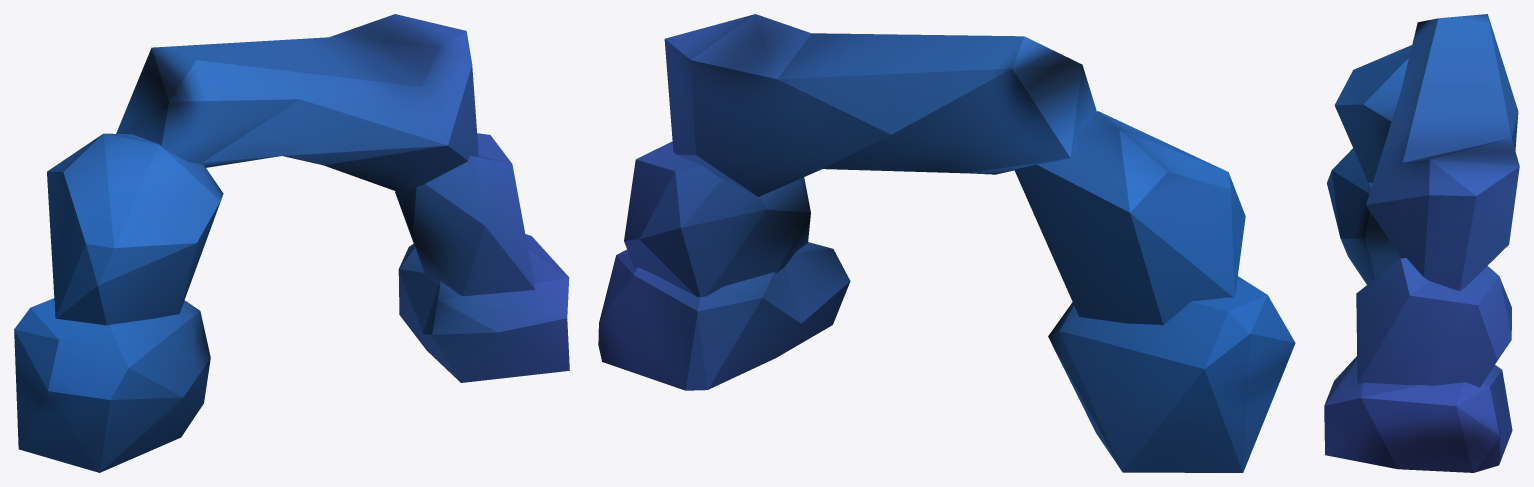
Rendered from Terrain_Rock_4.fbx.
The picture shows the model from 3 angles, left to right: view 1: azimuth 30°, elevation 25°; view 2: azimuth 150°, elevation 25°; view 3: azimuth 270°, elevation 25°; orthographic projection. The views are drawn at different scales.
Visible parts, largest first — view 1: terrain_wall_401_3_LOD1; view 2: terrain_wall_401_3_LOD1; view 3: terrain_wall_401_3_LOD1.
Boxes of the visible parts, <box> form: terrain_wall_401_3_LOD1: <box>14,14,569,472</box>; terrain_wall_401_3_LOD1: <box>598,14,1295,472</box>; terrain_wall_401_3_LOD1: <box>1324,14,1519,472</box>.
Size of the model in its own units: 877 by 524 by 307.
1 material, 1 textured.
